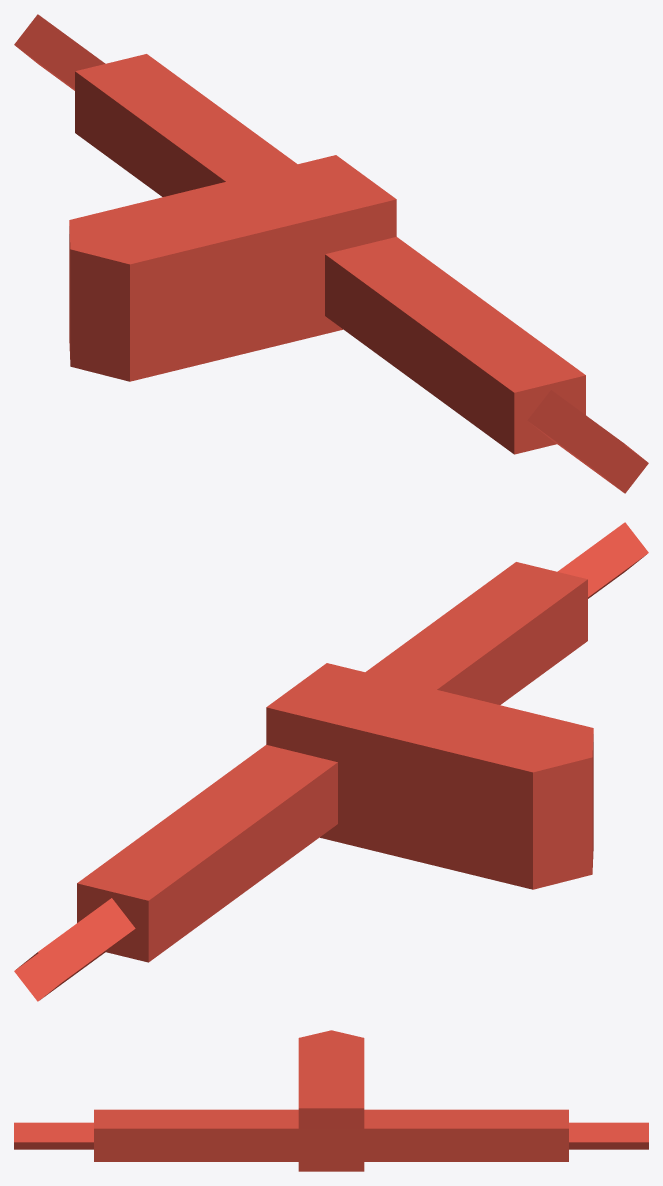
Rendered from SM_Wind_Machine_Wheels_F.fbx.
The picture shows the model from 3 angles, top to bottom: view 1: azimuth 30°, elevation 25°; view 2: azimuth 150°, elevation 25°; view 3: azimuth 270°, elevation 25°; orthographic projection. The views are drawn at different scales.
Parts seen in each view (by area): view 1: SM_Wind_Machine_Wheels_F; view 2: SM_Wind_Machine_Wheels_F; view 3: SM_Wind_Machine_Wheels_F.
Boxes of the visible parts, bbox=[...] form: SM_Wind_Machine_Wheels_F: bbox=[14, 14, 648, 493]; SM_Wind_Machine_Wheels_F: bbox=[14, 522, 648, 1001]; SM_Wind_Machine_Wheels_F: bbox=[14, 1030, 648, 1171].
Bounding box in the file's own units: 66.41 × 19.32 × 7.32.
